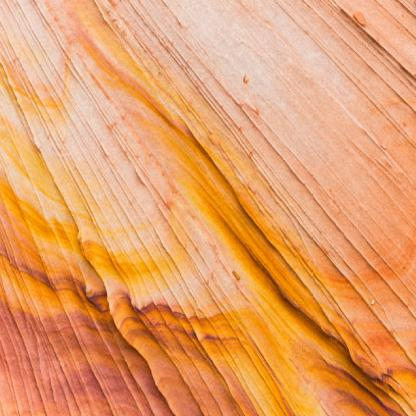Sedimentary_Sandstone: (3, 1, 415, 415)
